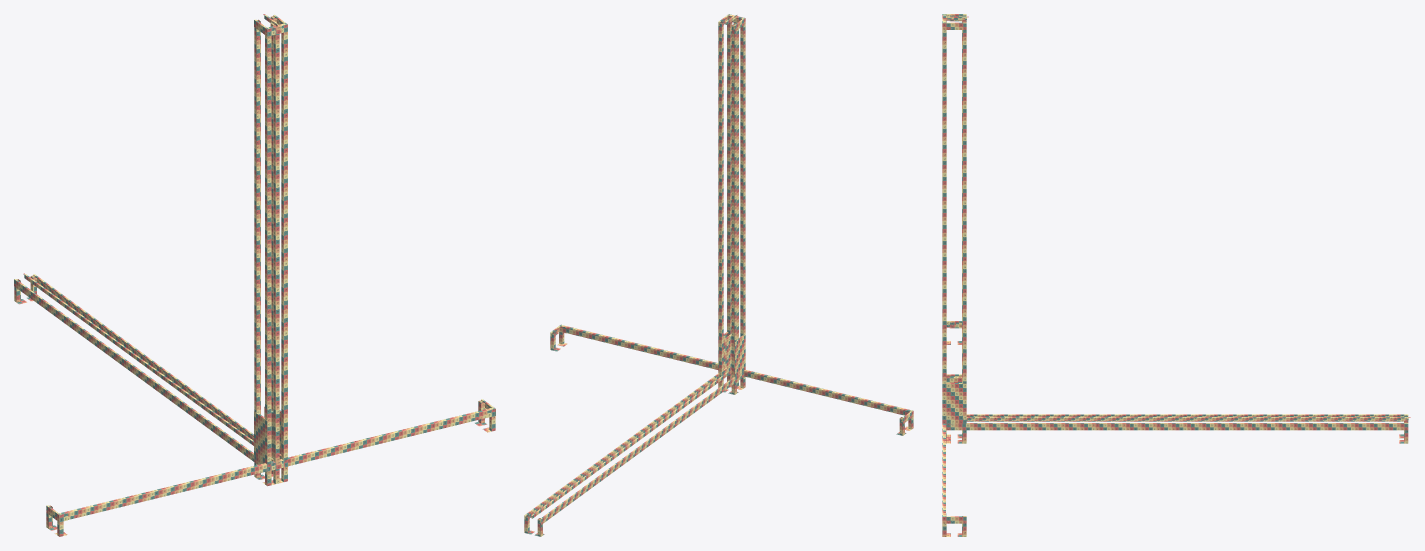
File: urbanOnePosts_2.glb
3 renders of one model, left to right at view 1: azimuth 30°, elevation 25°; view 2: azimuth 150°, elevation 25°; view 3: azimuth 270°, elevation 25°, orthographic. The views are drawn at different scales.
Visible parts, largest first — view 1: outsideBarWidth, postMiddleGeneralHeight, postRightGeneralHeight, postLeftGeneralHeight, postLeftBackGeneralHeight, connectionBarLeftDepth, connectionBarRightDepth, purlinDepth, postRightBackGeneralHeight, connectionBarLeftHeight; view 2: outsideBarWidth, postRightBackGeneralHeight, postLeftBackGeneralHeight, postLeftGeneralHeight, postRightGeneralHeight, connectionBarLeftDepth, connectionBarRightDepth, purlinDepth, postMiddleGeneralHeight; view 3: connectionBarRightDepth, postRightBackGeneralHeight, postRightGeneralHeight, purlinDepth, connectionBarLeftDepth, connectionBarRightHeight.
Boxes of the visible parts, x1=… form: outsideBarWidth: x1=58, y1=406, x2=494, y2=519; postMiddleGeneralHeight: x1=273, y1=26, x2=281, y2=483; postRightGeneralHeight: x1=280, y1=24, x2=287, y2=481; postLeftGeneralHeight: x1=265, y1=27, x2=275, y2=485; postLeftBackGeneralHeight: x1=254, y1=19, x2=260, y2=477; connectionBarLeftDepth: x1=14, y1=279, x2=261, y2=464; connectionBarRightDepth: x1=33, y1=274, x2=280, y2=454; purlinDepth: x1=23, y1=273, x2=272, y2=457; postRightBackGeneralHeight: x1=270, y1=16, x2=276, y2=473; connectionBarLeftHeight: x1=254, y1=411, x2=267, y2=463; outsideBarWidth: x1=555, y1=325, x2=912, y2=415; postRightBackGeneralHeight: x1=718, y1=21, x2=723, y2=387; postLeftBackGeneralHeight: x1=731, y1=24, x2=736, y2=394; postLeftGeneralHeight: x1=739, y1=18, x2=745, y2=388; postRightGeneralHeight: x1=727, y1=16, x2=732, y2=379; connectionBarLeftDepth: x1=539, y1=373, x2=740, y2=524; connectionBarRightDepth: x1=524, y1=369, x2=725, y2=521; purlinDepth: x1=530, y1=372, x2=730, y2=518; postMiddleGeneralHeight: x1=732, y1=17, x2=738, y2=386; connectionBarRightDepth: x1=952, y1=423, x2=1408, y2=430; postRightBackGeneralHeight: x1=962, y1=22, x2=966, y2=443; postRightGeneralHeight: x1=942, y1=20, x2=946, y2=441; purlinDepth: x1=966, y1=417, x2=1410, y2=420; connectionBarLeftDepth: x1=966, y1=414, x2=1408, y2=421; connectionBarRightHeight: x1=942, y1=383, x2=966, y2=424.
Size of the model in its own units: 10.5 by 10.55 by 10.6.
Materials: 1 (1 with a texture image).
